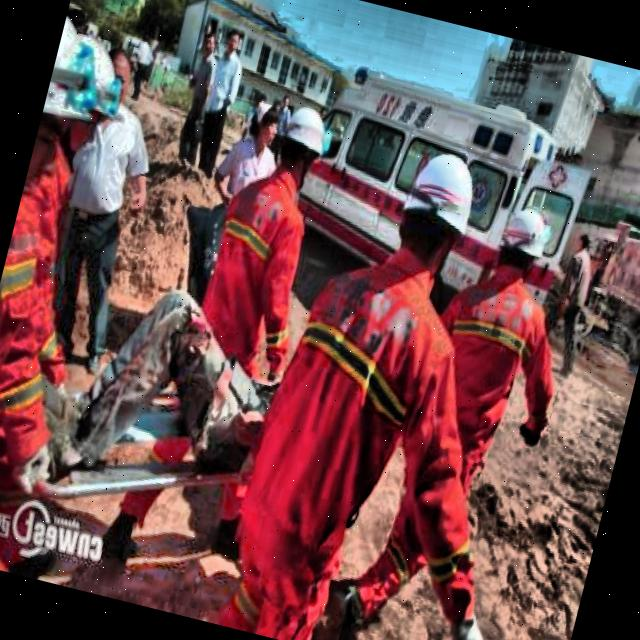helmet: (24, 11, 110, 198), (383, 141, 488, 291), (41, 34, 130, 164), (488, 204, 554, 296), (270, 101, 334, 190)
